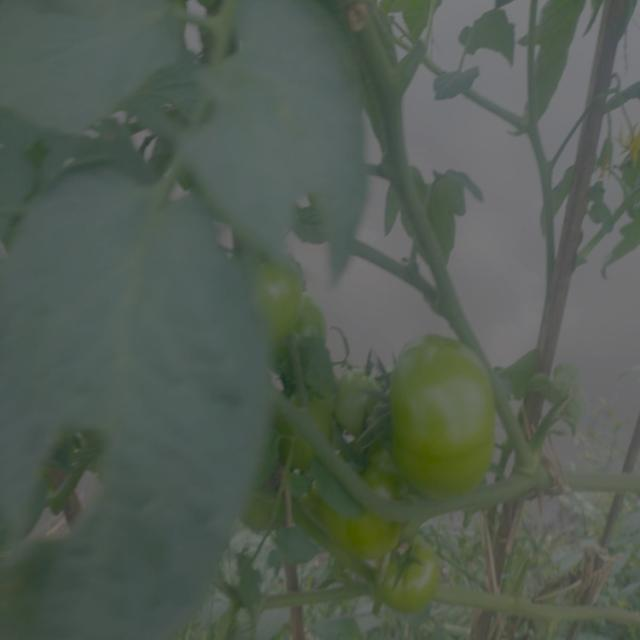tomato: (389, 332, 495, 458), (244, 254, 303, 341), (390, 541, 448, 614), (404, 462, 489, 504), (330, 375, 382, 440), (354, 504, 390, 557), (302, 304, 329, 353)
